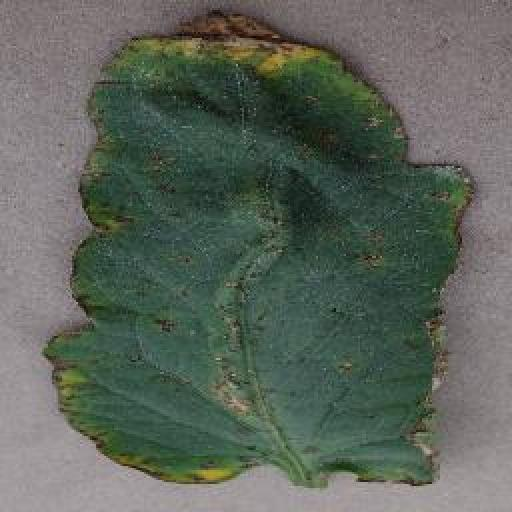Bacterial Spot: (39, 7, 481, 492)
